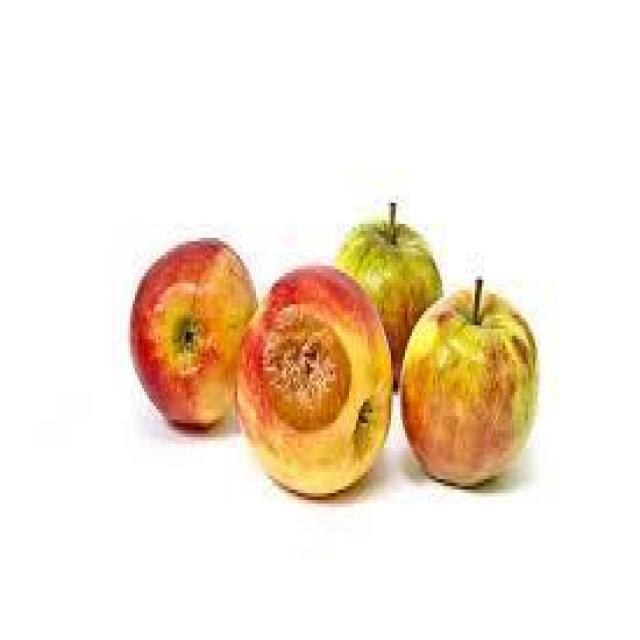maca: (233, 262, 393, 497), (398, 273, 538, 486), (128, 234, 256, 430), (333, 196, 442, 388)
